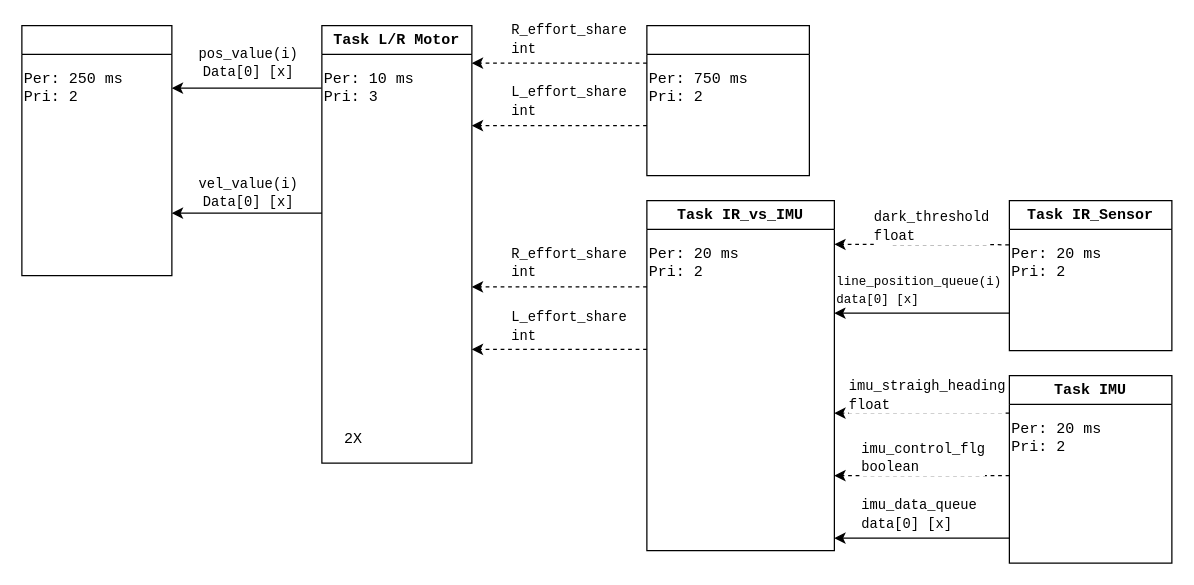
This 1194x585 diagram has some shape labels left out. Each missing label, with the box of its shape:
Task Collector: (21, 24, 172, 276)
Task Comms: (646, 24, 809, 176)
